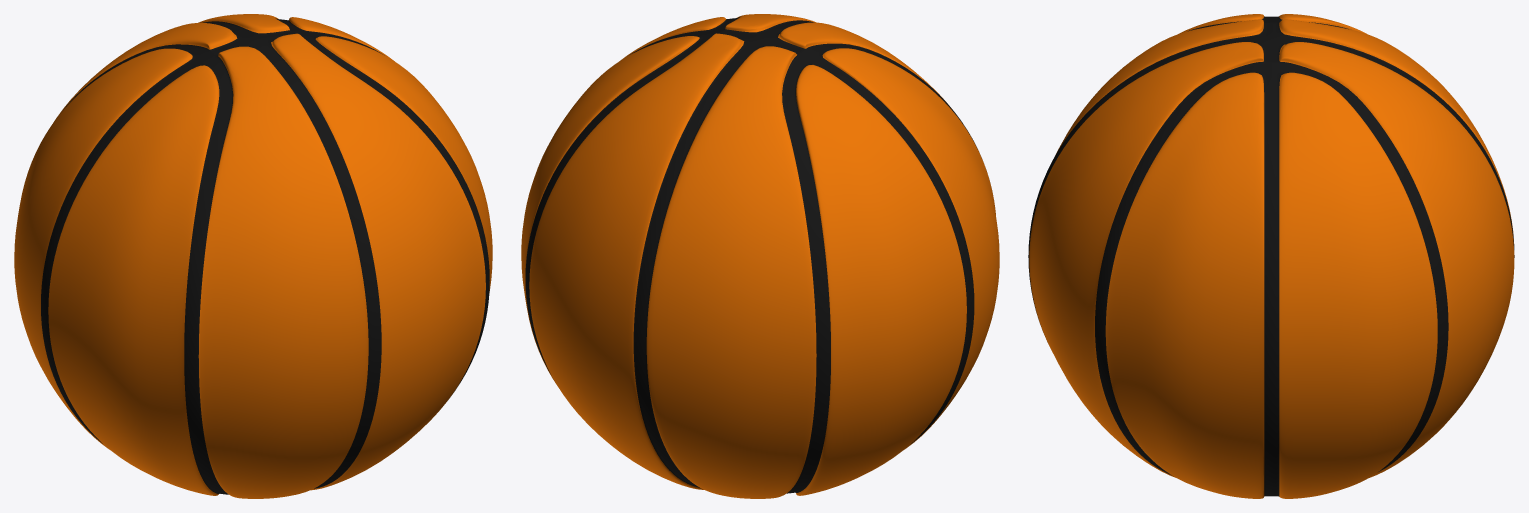
The model's file is Basketball.fbx.
3 views of the same model, side by side, from view 1: azimuth 30°, elevation 25°; view 2: azimuth 150°, elevation 25°; view 3: azimuth 270°, elevation 25° (orthographic).
Visible parts, largest first — view 1: Sphere; view 2: Sphere; view 3: Sphere.
Part boxes in pixels (box(x1,y1,x2,y2)): Sphere: box(14, 14, 492, 498); Sphere: box(521, 14, 999, 498); Sphere: box(1028, 14, 1514, 498).
Bounding box in the file's own units: 53.43 × 53.36 × 53.43.
